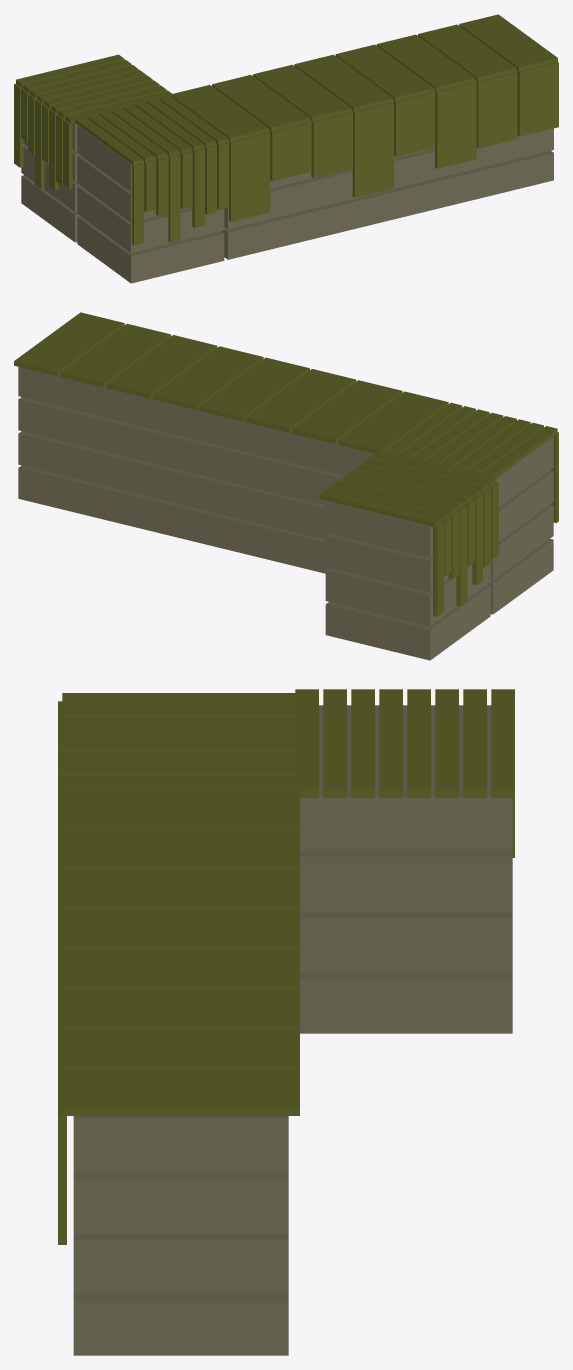
File: SM_SacosRemate_v4_Red_e0_Sano_LOD1.fbx
3 views of the same model, one above another, from view 1: azimuth 30°, elevation 25°; view 2: azimuth 150°, elevation 25°; view 3: azimuth 270°, elevation 25° (orthographic). The views are drawn at different scales.
Visible parts, largest first — view 1: SM_sacos_piezas_v36_LOD1; view 2: SM_sacos_piezas_v36_LOD1; view 3: SM_sacos_piezas_v36_LOD1.
Part boxes in pixels (x1,y1,x2,y2): SM_sacos_piezas_v36_LOD1: [14, 14, 558, 283]; SM_sacos_piezas_v36_LOD1: [14, 312, 558, 660]; SM_sacos_piezas_v36_LOD1: [58, 689, 514, 1355].
Bounding box in the file's own units: 4.44 × 1.23 × 2.04.
